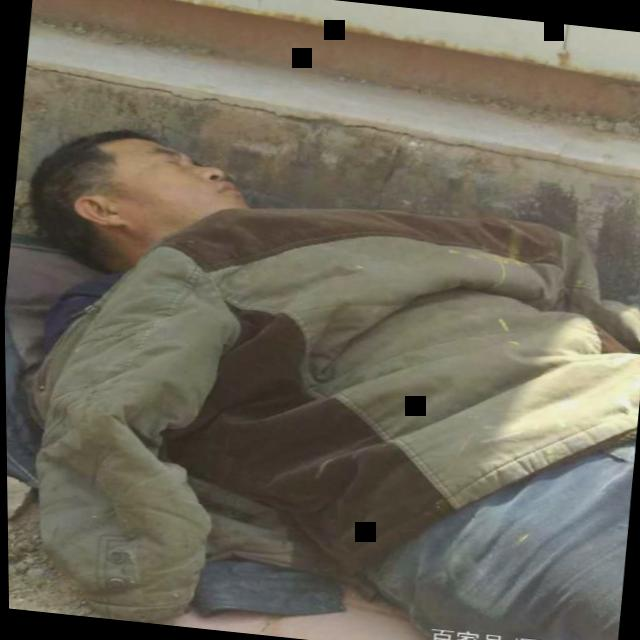Fall-Detected: (1, 113, 640, 640)
